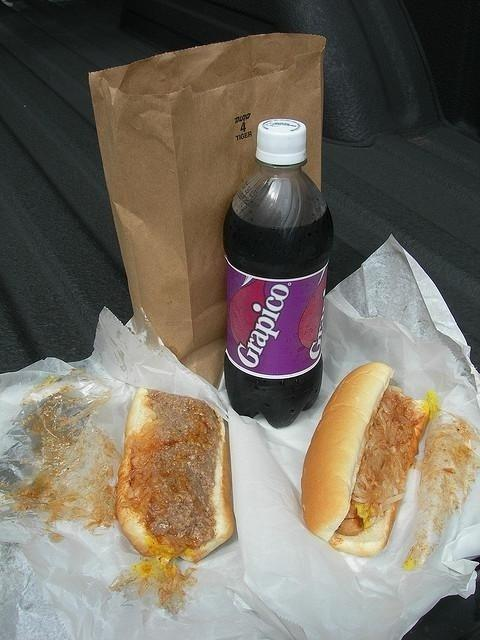bottle-plastic: (219, 117, 332, 421)
